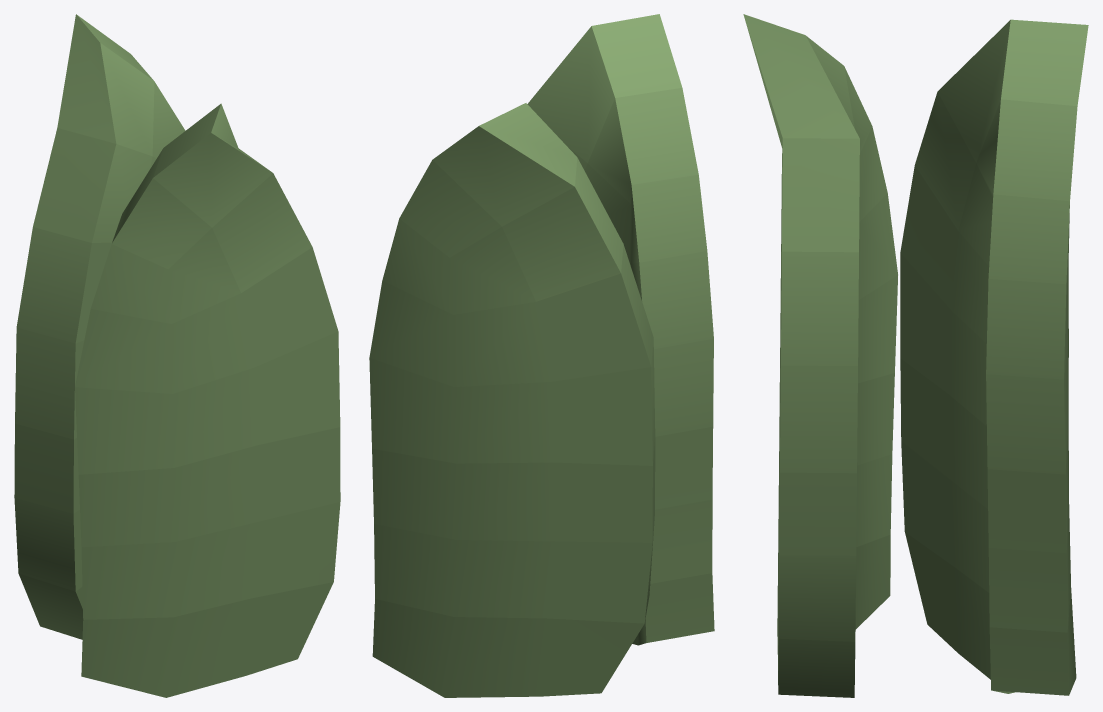
The model's file is thickleaftwo.fbx.
3 views of the same model, side by side, from view 1: azimuth 30°, elevation 25°; view 2: azimuth 150°, elevation 25°; view 3: azimuth 270°, elevation 25° (orthographic). The views are drawn at different scales.
Visible parts, largest first — view 1: polySurface1, pasted__polySurface1; view 2: pasted__polySurface1, polySurface1; view 3: pasted__polySurface1, polySurface1.
Boxes of the visible parts, bbox=[...] form: polySurface1: bbox=[75, 103, 340, 697]; pasted__polySurface1: bbox=[14, 14, 185, 639]; pasted__polySurface1: bbox=[369, 103, 655, 697]; polySurface1: bbox=[527, 14, 714, 645]; pasted__polySurface1: bbox=[900, 19, 1088, 695]; polySurface1: bbox=[743, 14, 897, 697].
Size of the model in its own units: 1.61 by 3.65 by 1.8.
